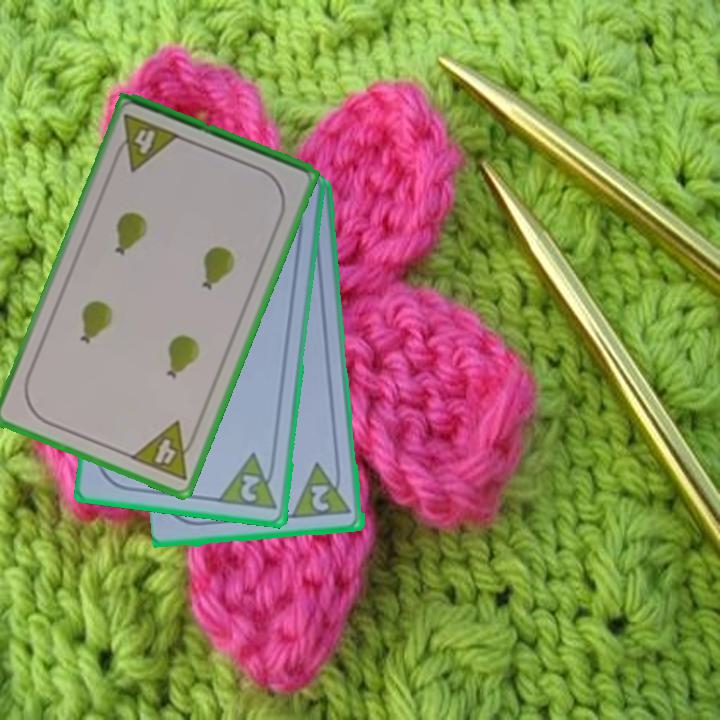2p: (290, 459, 355, 522), (237, 471, 264, 505)
4p: (127, 417, 202, 484), (109, 111, 183, 174)
